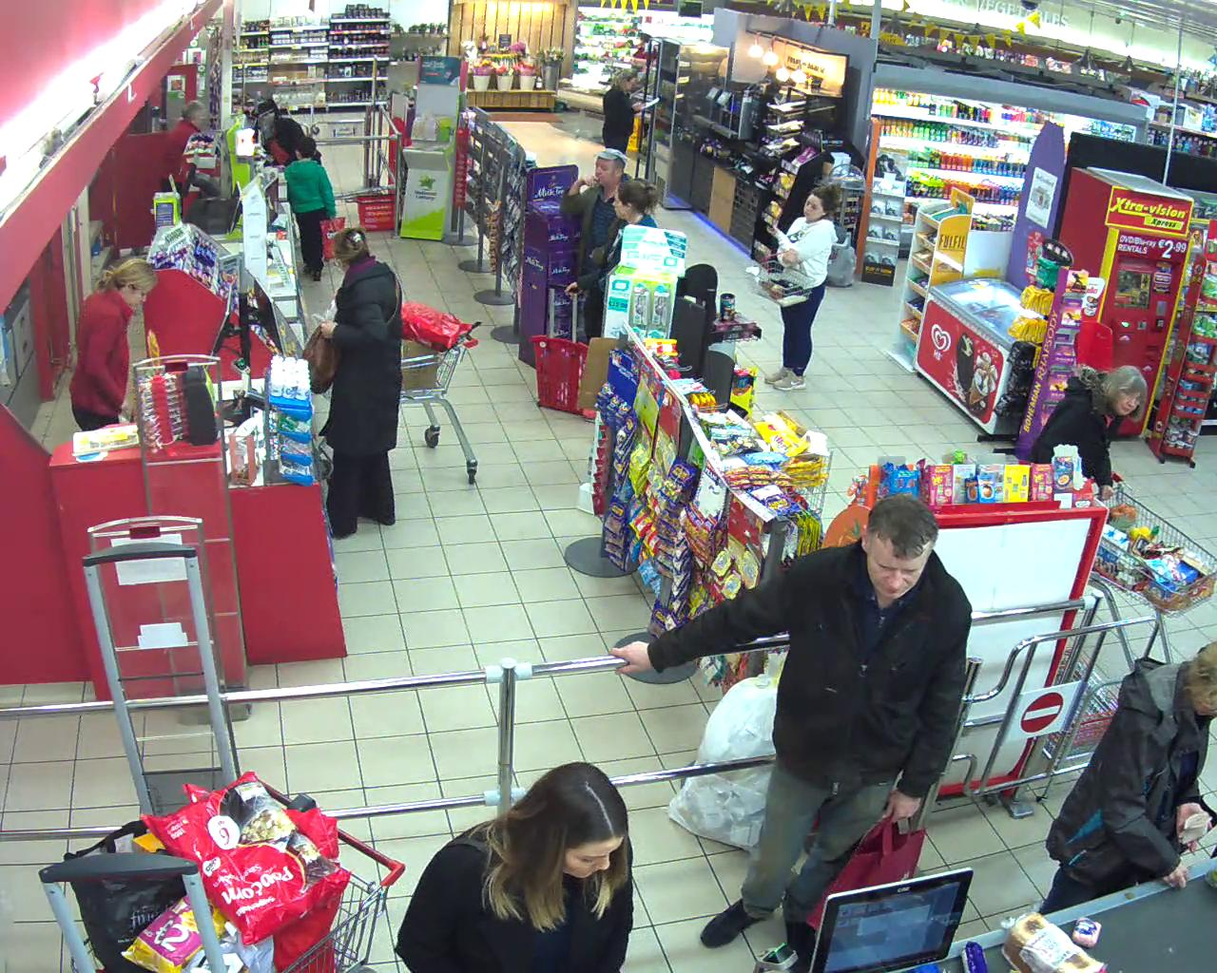backpack-or-handbag: (299, 320, 342, 393)
filled-basket: (529, 333, 595, 419), (745, 247, 815, 308)
filled-shopping-bags: (802, 819, 931, 936)
filled-trolly: (1084, 472, 1217, 666), (395, 303, 480, 485)
occupied-checkout-counter: (66, 250, 287, 461), (116, 103, 275, 183)
person: (614, 495, 972, 944), (318, 226, 401, 538), (1029, 364, 1147, 495), (765, 180, 837, 390), (565, 179, 660, 300)
person-with-basket-trolly-and-backpack-handbag: (299, 224, 480, 539)
person-with-filled-basket-trolly: (1029, 364, 1217, 664), (527, 179, 660, 418), (745, 179, 838, 391)
person-with-filled-shopping-bag-s-: (614, 496, 974, 943)
vacant-checkout-counter: (116, 173, 283, 252)
